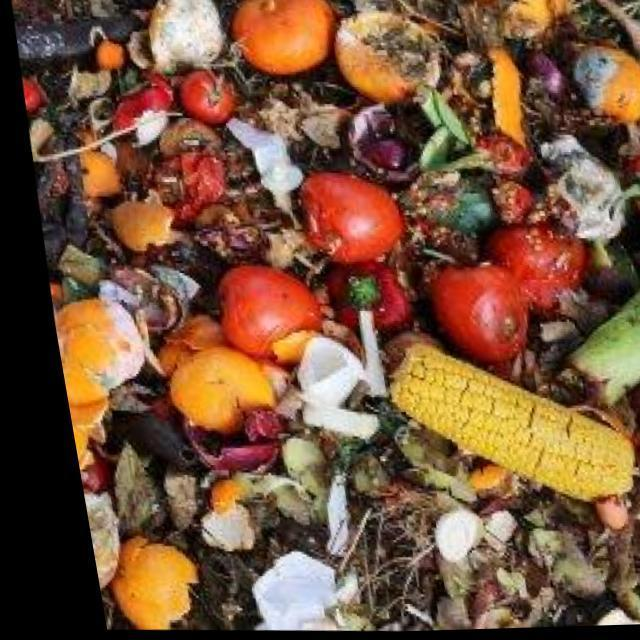Garbage: (11, 0, 640, 633)
